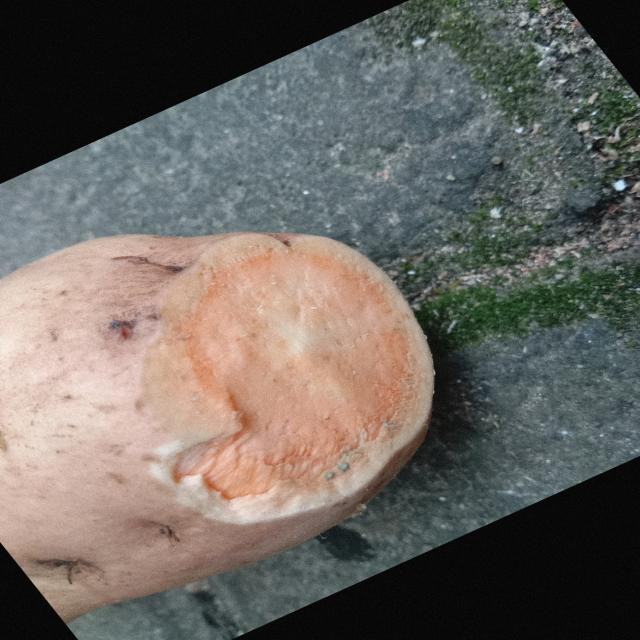Healthy Sweet Potato: (143, 232, 433, 524)
